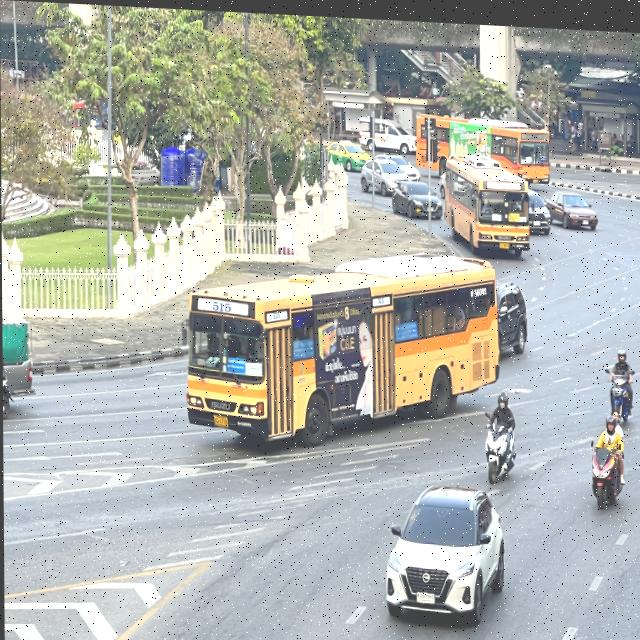BMTA-bus: (184, 247, 500, 443), (443, 149, 531, 252), (417, 111, 550, 179)
Bus Line Number: (209, 295, 233, 312), (500, 176, 509, 184), (530, 128, 539, 134)
Bus Side Number: (469, 281, 488, 295), (235, 416, 252, 425), (512, 237, 524, 243), (542, 172, 548, 177)
Destination Sign: (226, 354, 245, 371), (509, 207, 520, 215), (539, 149, 547, 156)
